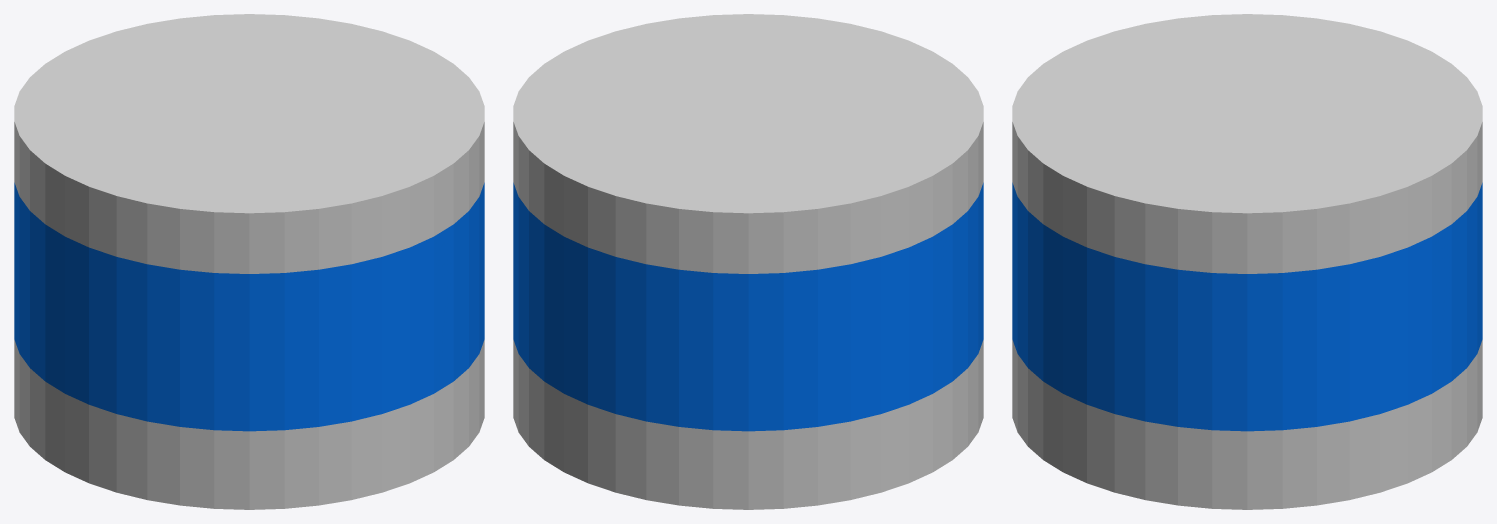
The model's file is velodyne_puck.glb.
The picture shows the model from 3 angles, left to right: view 1: azimuth 30°, elevation 25°; view 2: azimuth 150°, elevation 25°; view 3: azimuth 270°, elevation 25°; orthographic projection.
Parts seen in each view (by area): view 1: n_white, n_blue; view 2: n_white, n_blue; view 3: n_white, n_blue.
Part boxes in pixels (left/top/right/bottom): n_white: left=14, top=14, right=484, bottom=509; n_blue: left=14, top=182, right=484, bottom=431; n_white: left=513, top=14, right=983, bottom=509; n_blue: left=513, top=182, right=983, bottom=431; n_white: left=1012, top=14, right=1482, bottom=509; n_blue: left=1012, top=182, right=1482, bottom=431.
Bounding box in the file's own units: 0.1033 × 0.0717 × 0.103.
